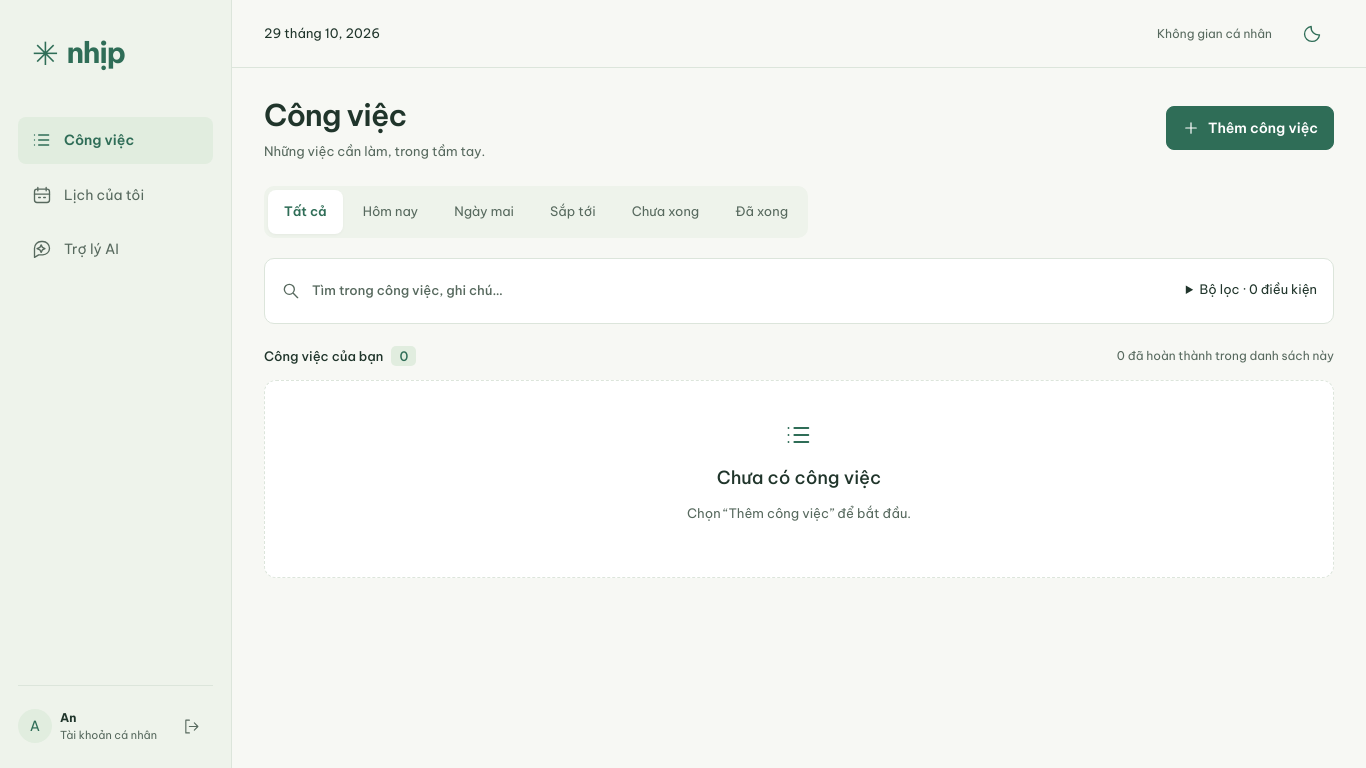
Scenario: network failure leaves form draft and never announces success
Click the button "Thêm công việc" at [1250, 128], box top-left (1166, 106), bottom-right (1334, 150)
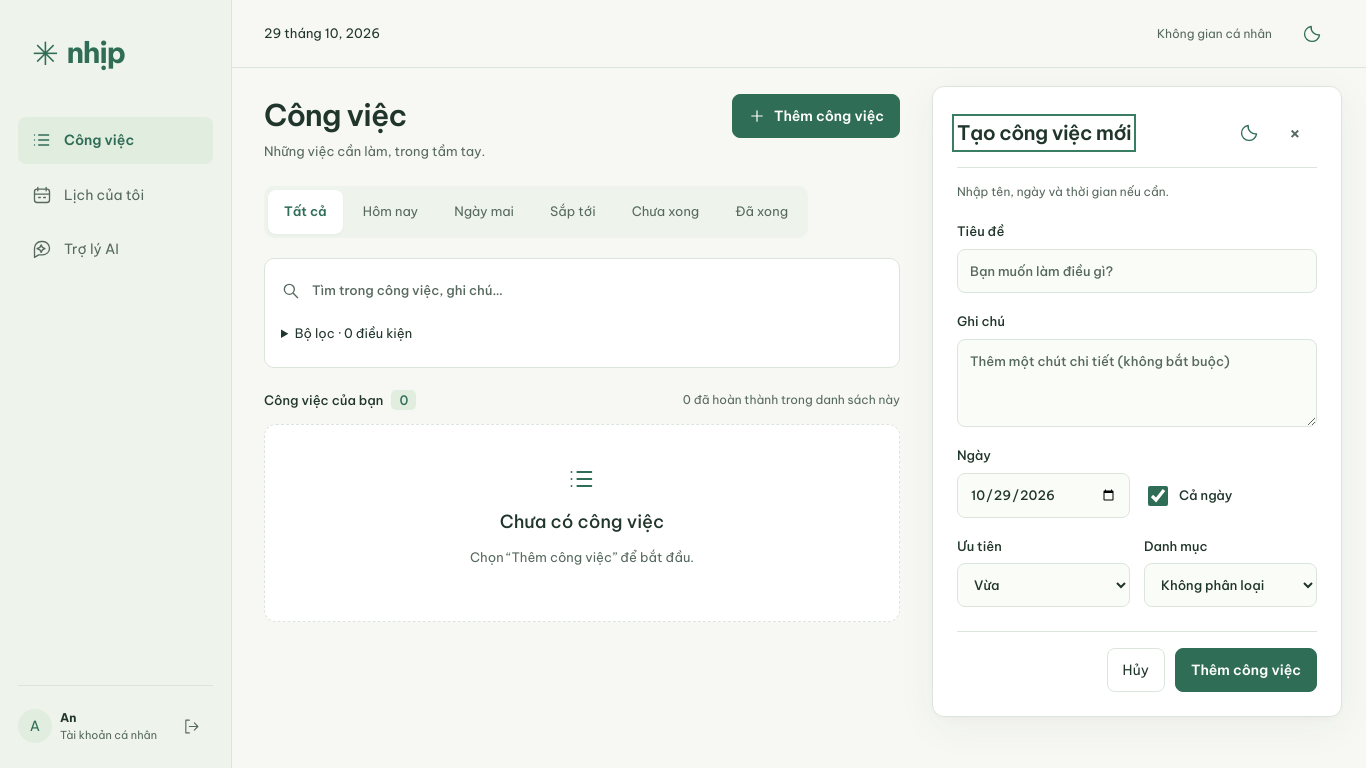
Type "Giữ draft sau lỗi" into the field labelled "Tiêu đề" at [1137, 271], box top-left (957, 249), bottom-right (1317, 293)
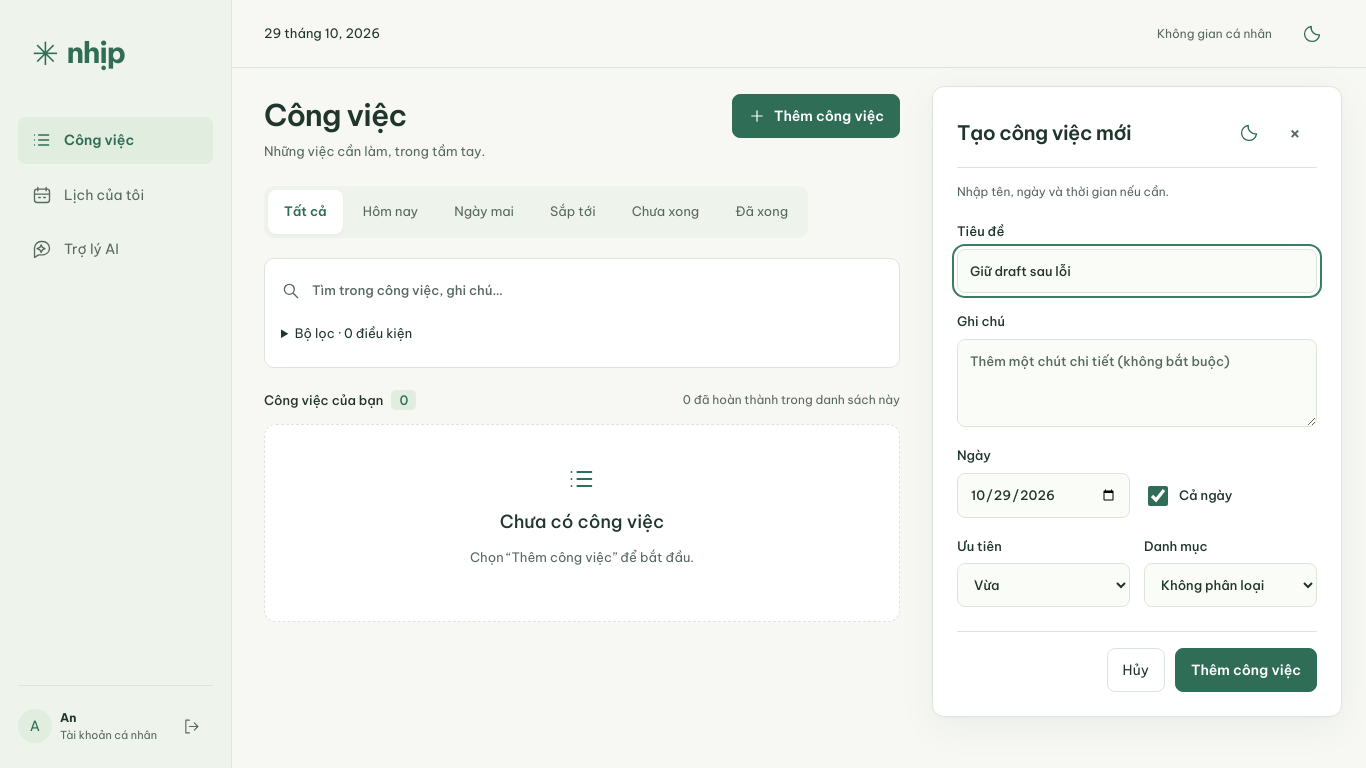
Click the button "Thêm công việc" at [1246, 670], box top-left (1175, 648), bottom-right (1317, 692)
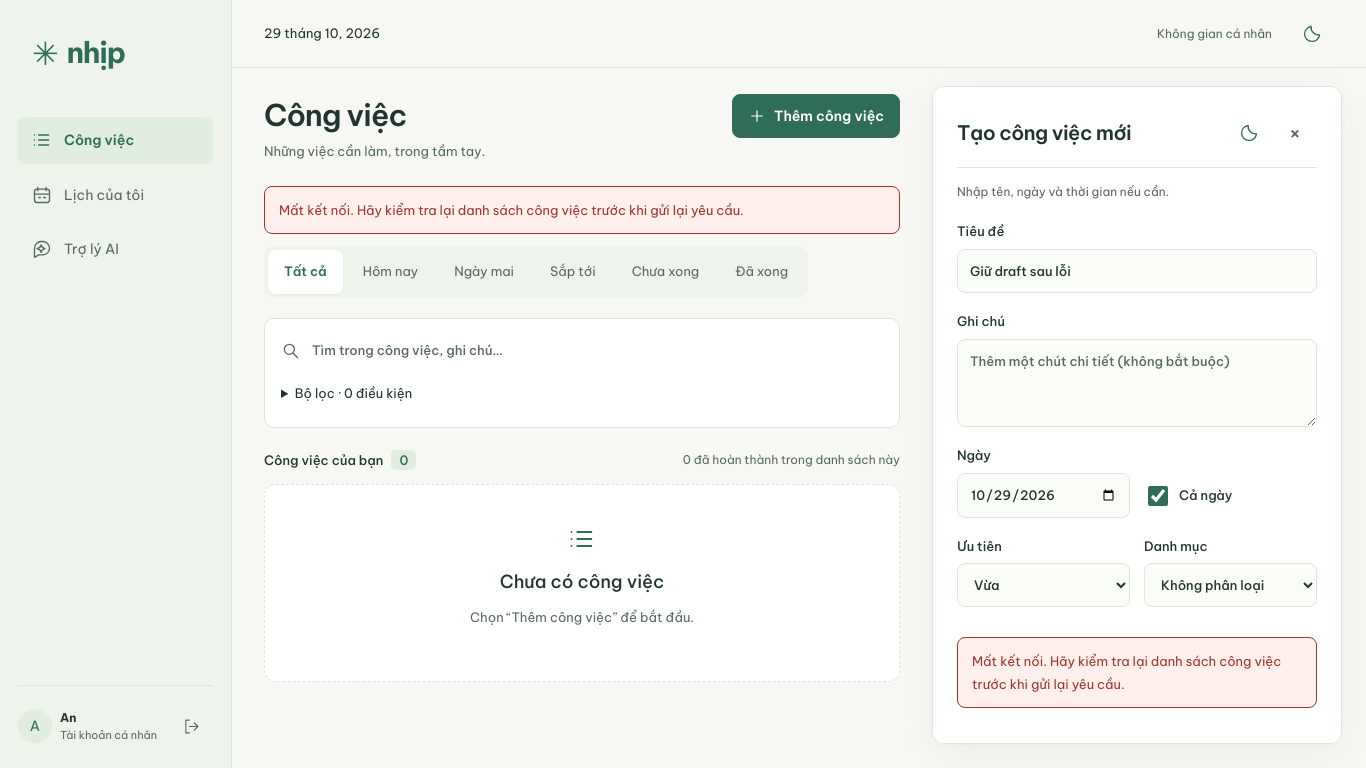
Result: the message shows "Mất kết nối" at top-left (972, 654), bottom-right (1281, 692)
